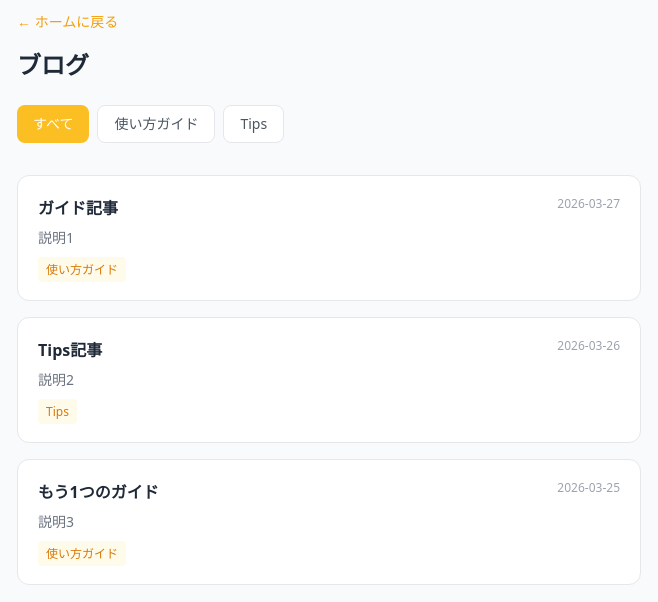
Test case: BlogListPage › すべてタブで全記事に戻る
What coordinates should you click on to do the following:
click the tab "Tips"
I would click on:
 (254, 124)
Its box is [224,105,284,143].
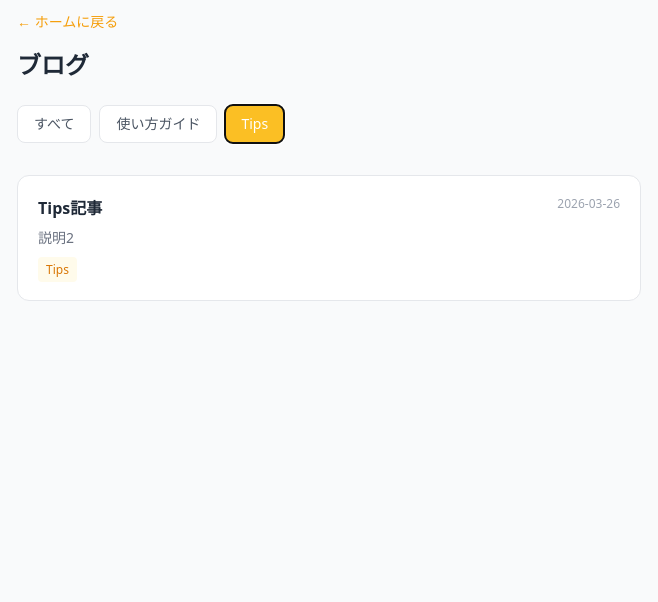
What coordinates should you click on to do the following:
click the tab "すべて"
I would click on:
 (54, 124)
Its box is [17,105,92,143].
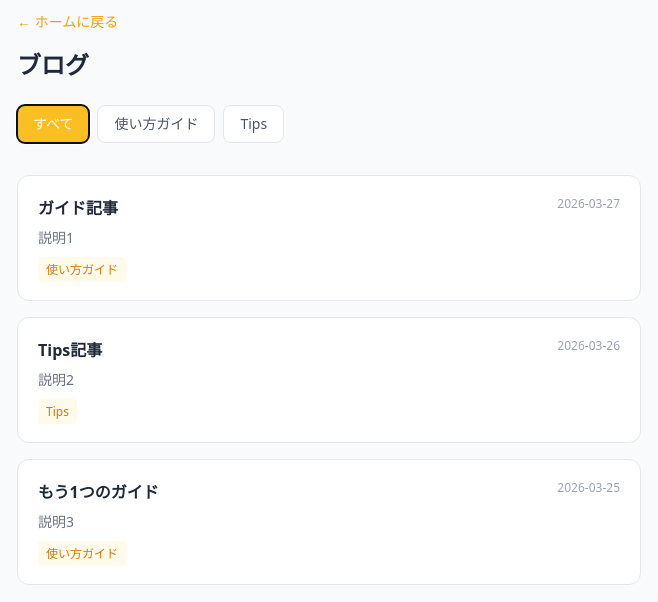
Check: the heading "Tips記事" is shown, box [38,338,102,362]
Check: the heading "ガイド記事" is shown, box [38,196,118,220]
